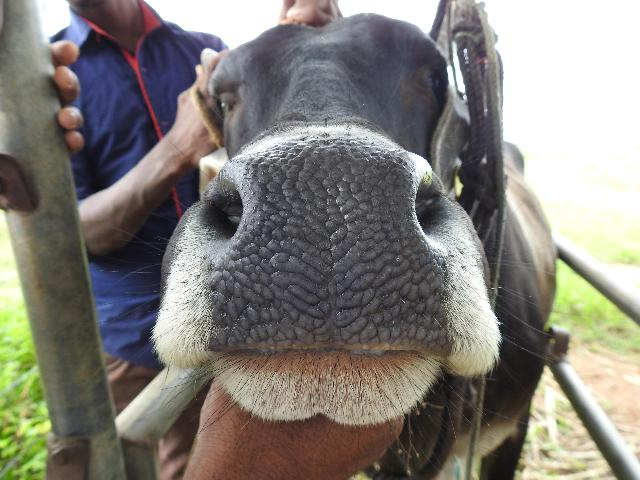Muzzle: (208, 140, 460, 358)
